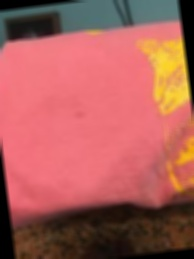oil: (66, 98, 91, 122)
